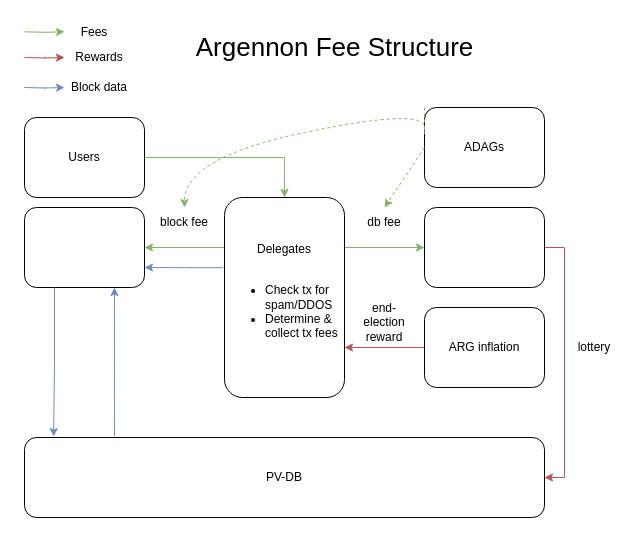
Some shapes in this 642 by 535 pixel diagram are drawn without their labels. Each missing label, with the centre of its shape:
dbFeeSink: the point at 484,247
Validators: the point at 84,247
